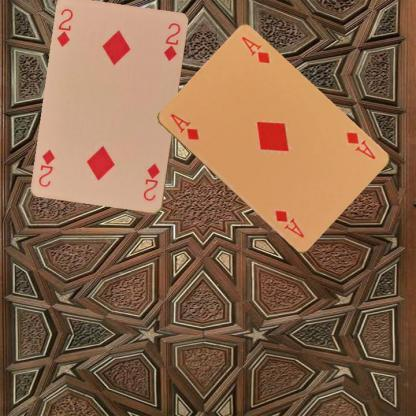2d: (141, 160, 162, 202), (54, 6, 74, 48)
Ad: (343, 129, 377, 162), (167, 110, 202, 141)
